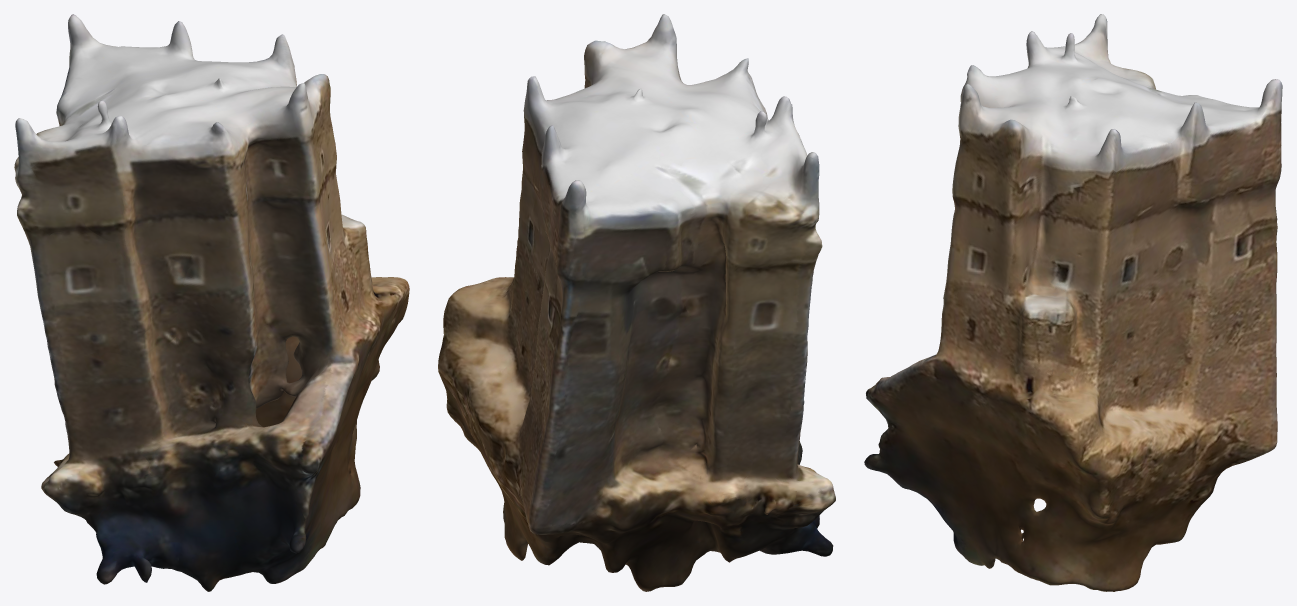
The model's file is shan3.fbx.
The picture shows the model from 3 angles, left to right: view 1: azimuth 30°, elevation 25°; view 2: azimuth 150°, elevation 25°; view 3: azimuth 270°, elevation 25°; orthographic projection. The views are drawn at different scales.
Visible parts, largest first — view 1: geometry_0; view 2: geometry_0; view 3: geometry_0.
Part boxes in pixels (x1,y1,x2,y2): geometry_0: (14,14,409,591); geometry_0: (438,14,835,591); geometry_0: (864,14,1282,591).
Size of the model in its own units: 68.38 by 84.45 by 66.64.
